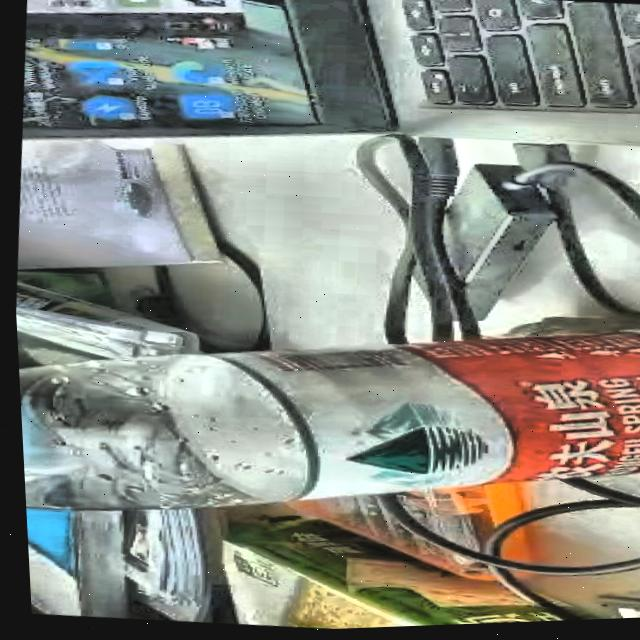plastic: (11, 252, 640, 577)
